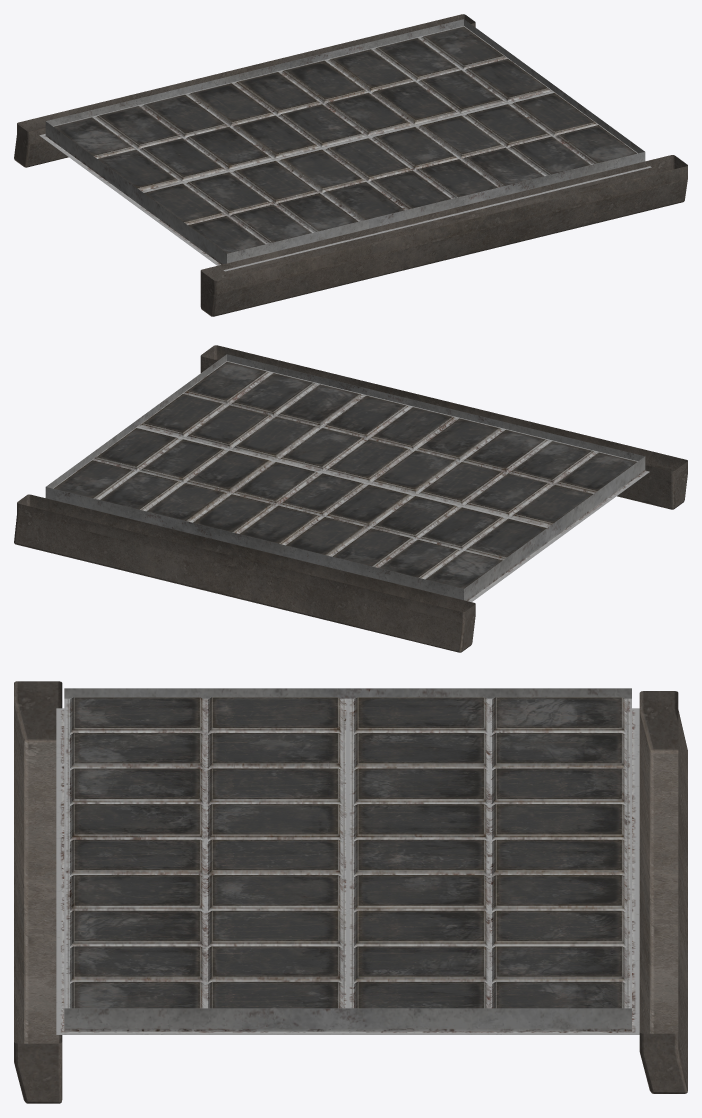
The model's file is window_centered_large_01.gltf.
3 renders of one model, top to bottom at view 1: azimuth 30°, elevation 25°; view 2: azimuth 150°, elevation 25°; view 3: azimuth 270°, elevation 25°, orthographic. The views are drawn at different scales.
Visible parts, largest first — view 1: window_centered_large_01; view 2: window_centered_large_01; view 3: window_centered_large_01.
Part boxes in pixels (x1=…): window_centered_large_01: x1=14, y1=14, x2=687, y2=316; window_centered_large_01: x1=14, y1=345, x2=687, y2=652; window_centered_large_01: x1=14, y1=681, x2=687, y2=1103.
Size of the model in its own units: 2.22 by 0.2167 by 1.74.
Materials: 2 (2 with a texture image).
